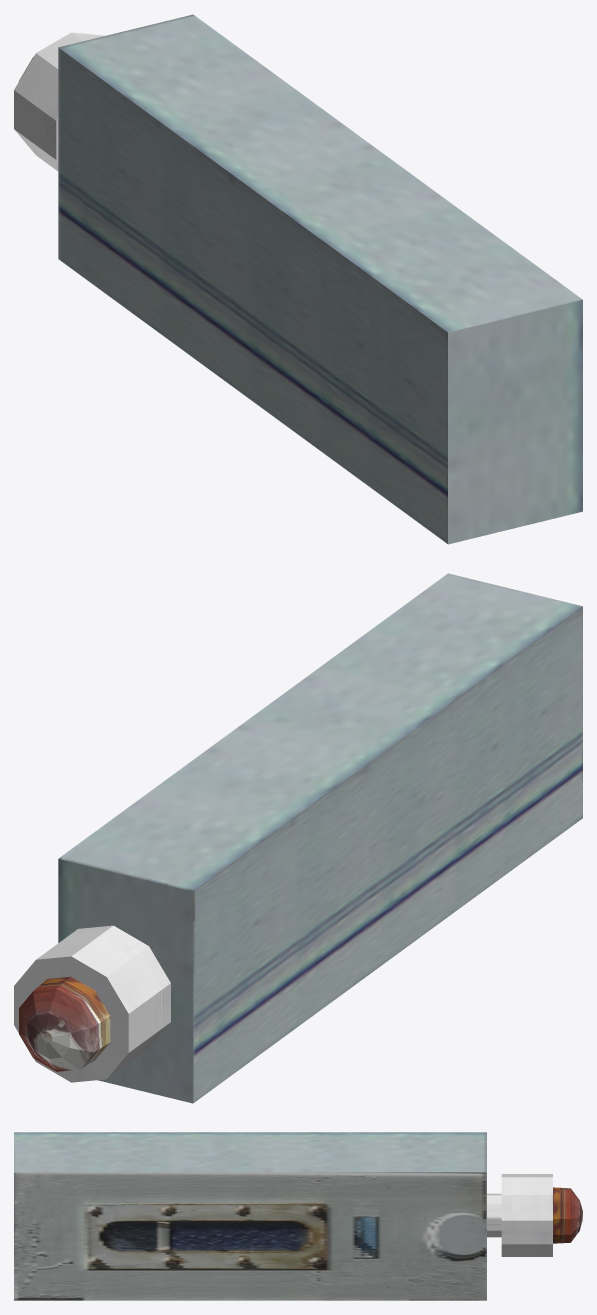
Rendered from hxq005-geode.glb.
3 renders of one model, top to bottom at view 1: azimuth 30°, elevation 25°; view 2: azimuth 150°, elevation 25°; view 3: azimuth 270°, elevation 25°, orthographic. The views are drawn at different scales.
Visible parts, largest first — view 1: Node; view 2: Node; view 3: Node.
Boxes of the visible parts, x1,y1,x2,y2 form: Node: [14, 14, 582, 544]; Node: [14, 573, 582, 1103]; Node: [14, 1132, 582, 1300].
Bounding box in the file's own units: 0.0999 × 0.15 × 0.6017.
3 materials, 3 textured.
